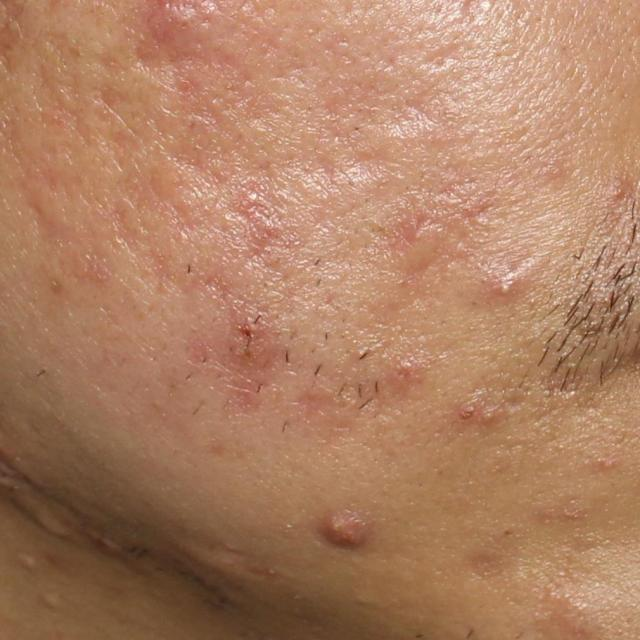nodule: (320, 512, 370, 548)
